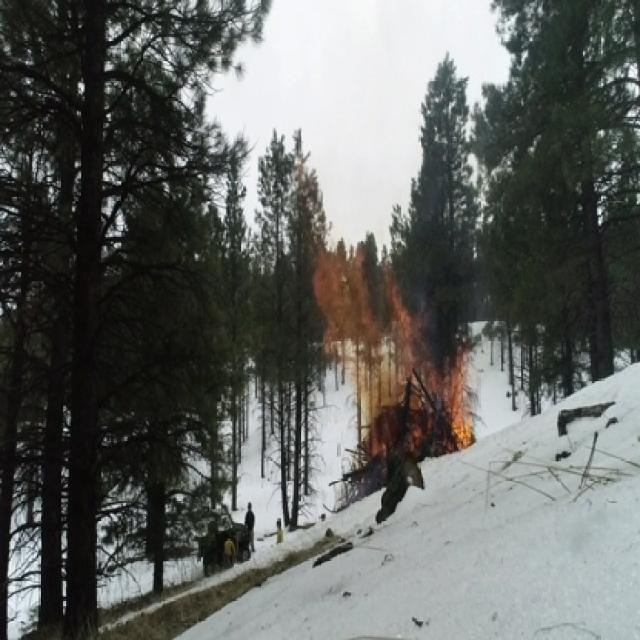Fire: (359, 301, 473, 456), (312, 193, 402, 350)
